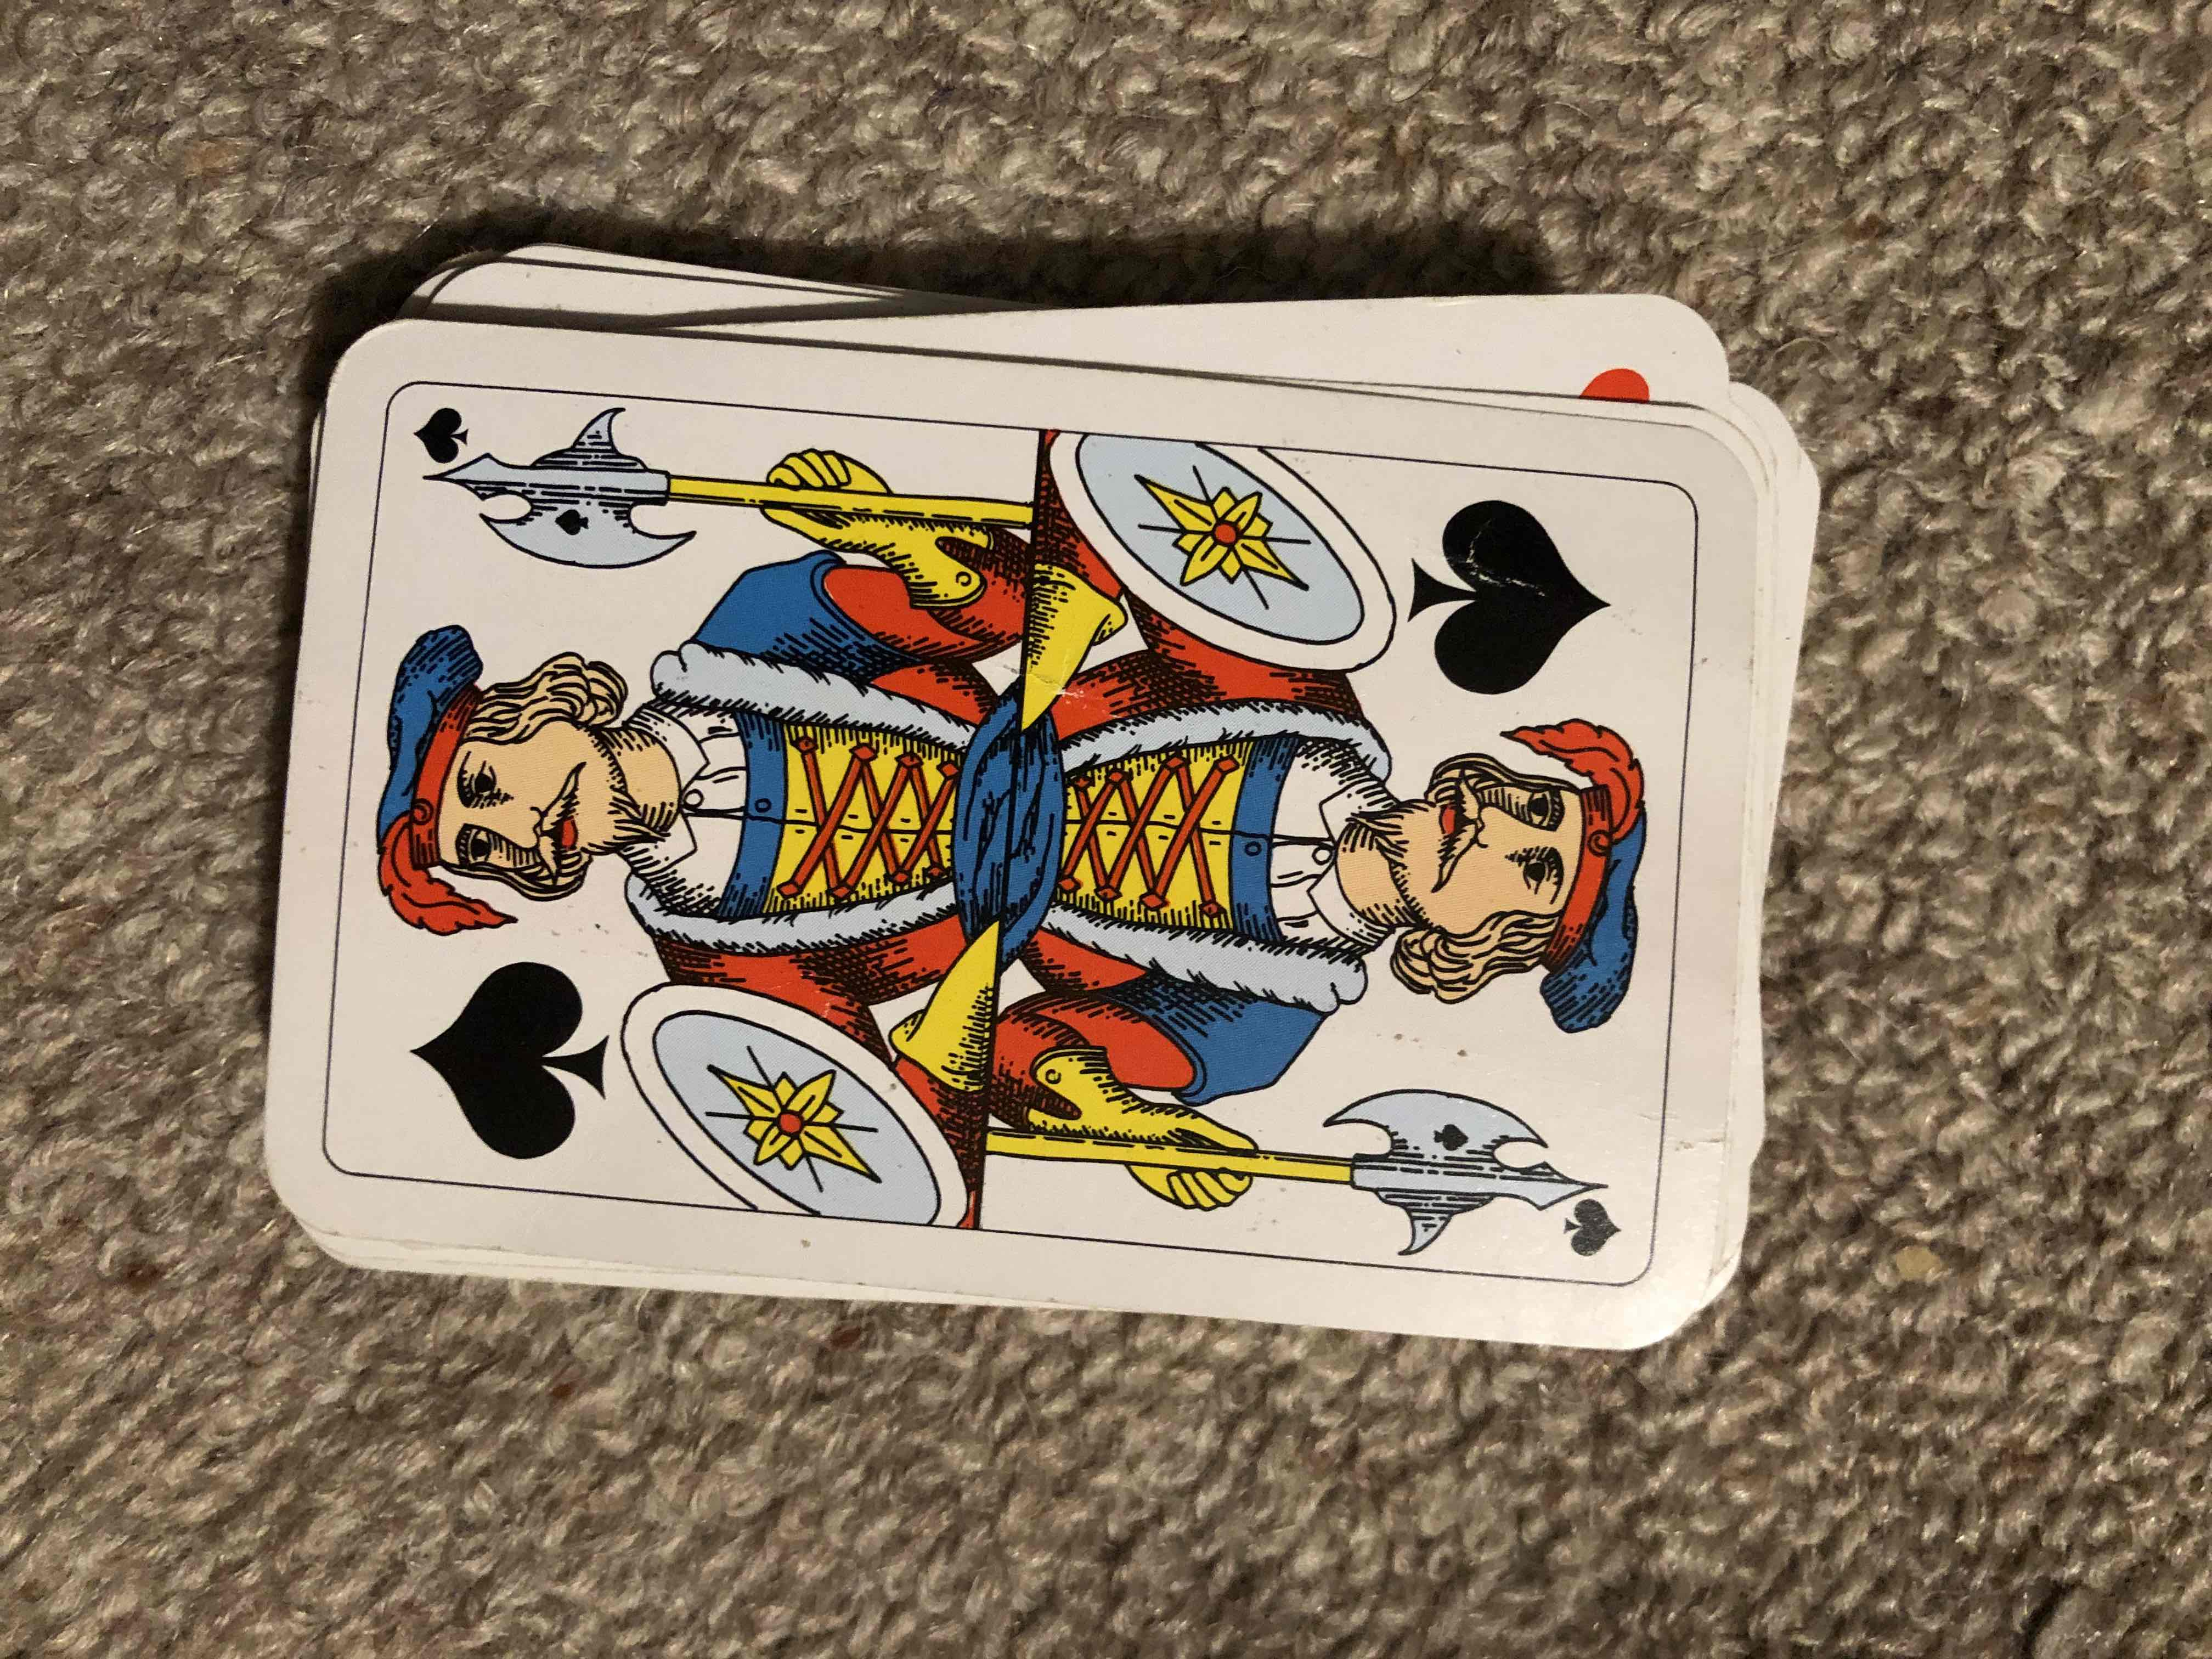spadesJack: (315, 300, 1730, 1333)
